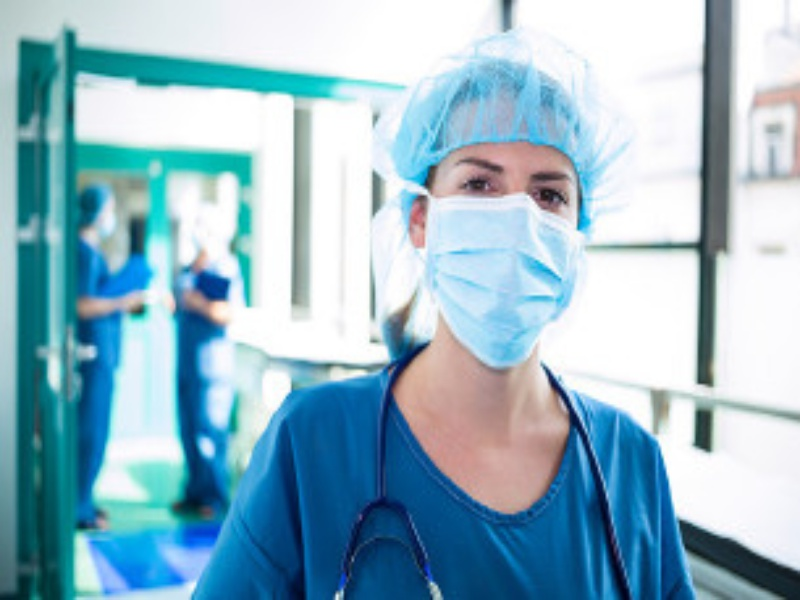mask: (393, 58, 613, 368)
